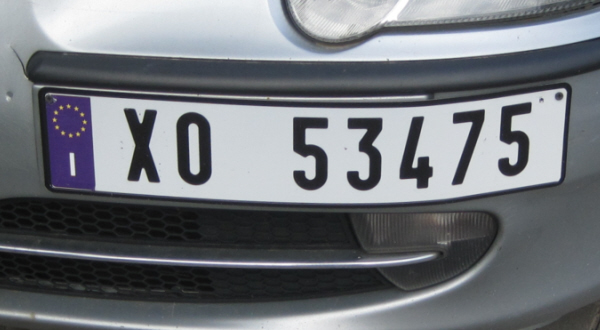license_plate: (38, 82, 572, 208)
